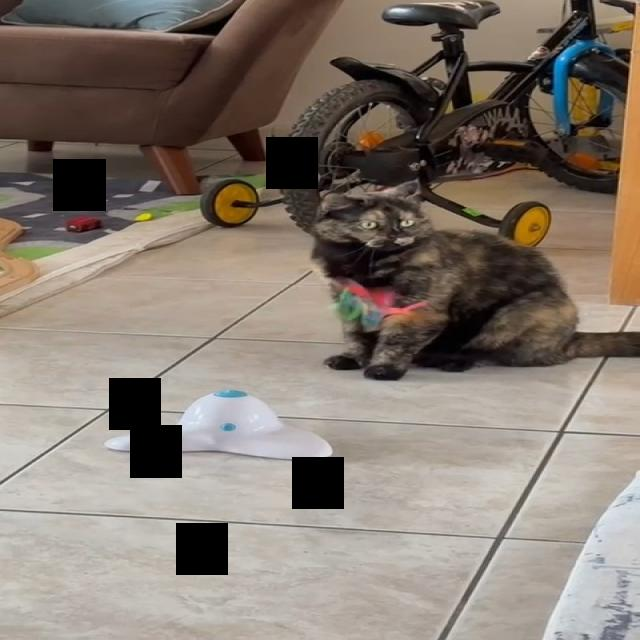authorized: (308, 179, 639, 380)
